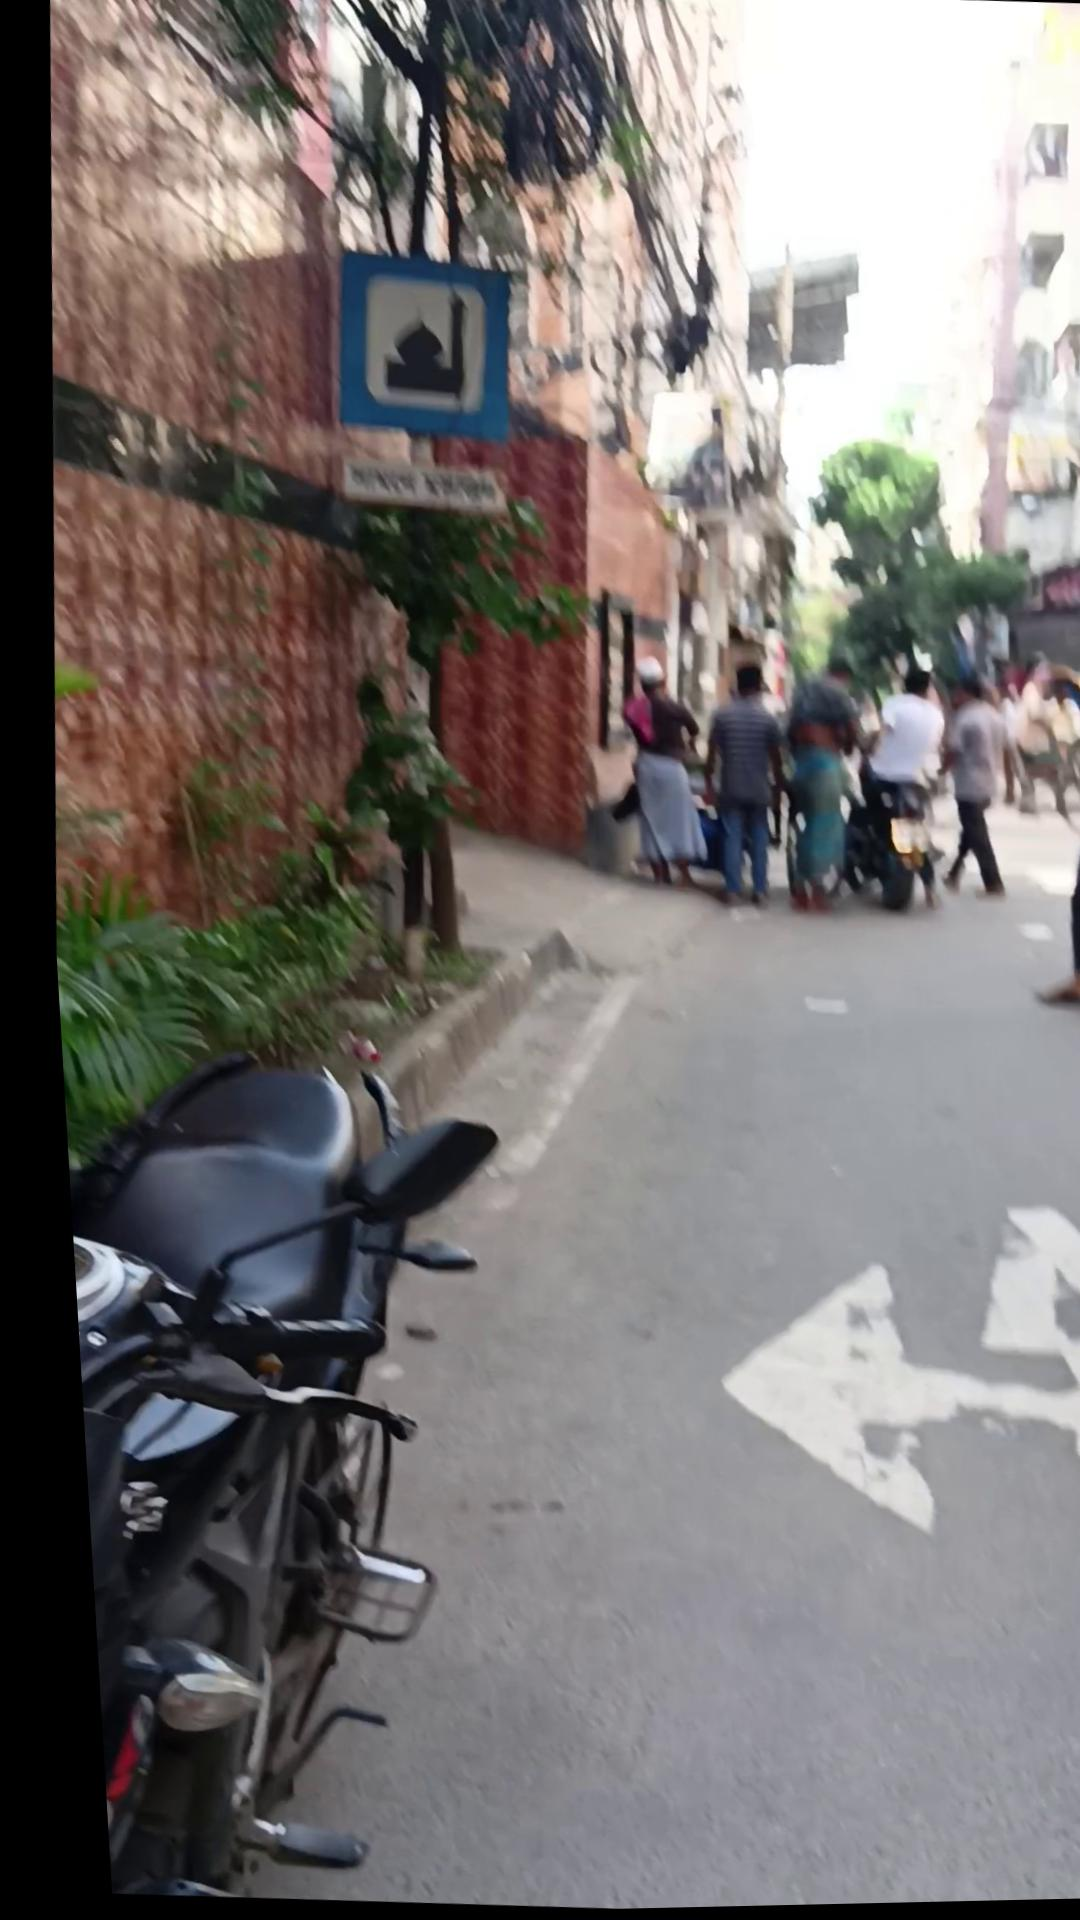Crosswalk: (323, 914, 600, 1167)
Light-pole: (47, 1013, 524, 1909)
Muddy road: (679, 662, 789, 913), (600, 655, 707, 891), (1046, 806, 1080, 1361)
Stuck-water: (320, 247, 516, 448)
